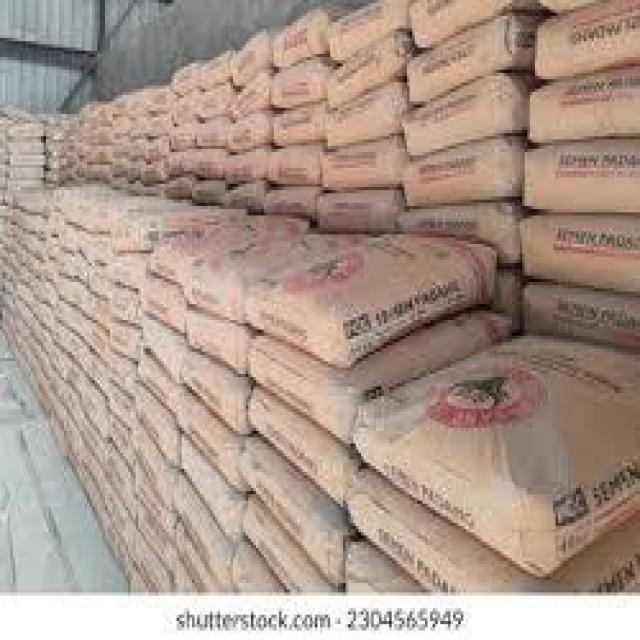gunny_bag: (358, 329, 640, 574), (245, 302, 505, 447), (249, 227, 500, 374), (345, 484, 631, 607), (183, 222, 369, 320), (241, 437, 344, 580), (249, 399, 361, 500), (156, 212, 303, 282), (408, 15, 523, 102), (407, 73, 508, 163), (244, 515, 334, 610), (528, 70, 640, 143), (527, 140, 640, 212), (400, 135, 507, 208), (523, 282, 639, 345), (543, 7, 640, 80), (528, 220, 640, 278), (327, 30, 408, 109), (326, 80, 403, 155), (179, 445, 238, 542), (181, 362, 245, 437), (178, 497, 233, 579), (323, 142, 406, 195), (190, 313, 251, 379), (333, 0, 400, 59), (136, 390, 183, 465), (317, 189, 393, 233), (273, 11, 321, 67), (140, 277, 187, 332), (147, 327, 186, 389), (229, 31, 267, 86), (276, 62, 320, 107), (270, 148, 318, 188), (263, 185, 318, 219), (278, 105, 324, 145), (231, 73, 269, 120), (228, 110, 270, 152), (225, 148, 270, 183), (197, 47, 232, 87), (107, 292, 144, 326), (110, 322, 139, 360), (171, 89, 200, 126), (227, 180, 262, 209), (199, 84, 227, 118), (108, 259, 143, 286), (193, 180, 223, 209), (189, 152, 225, 175), (198, 116, 225, 146), (170, 120, 194, 152)
